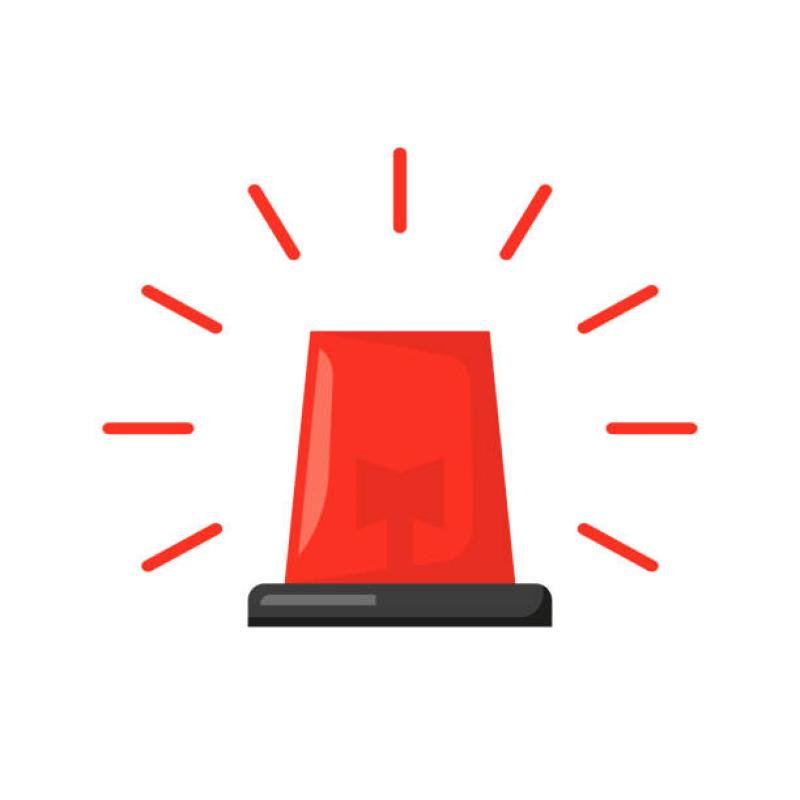AmbulanceSiren: (206, 296, 571, 684)
